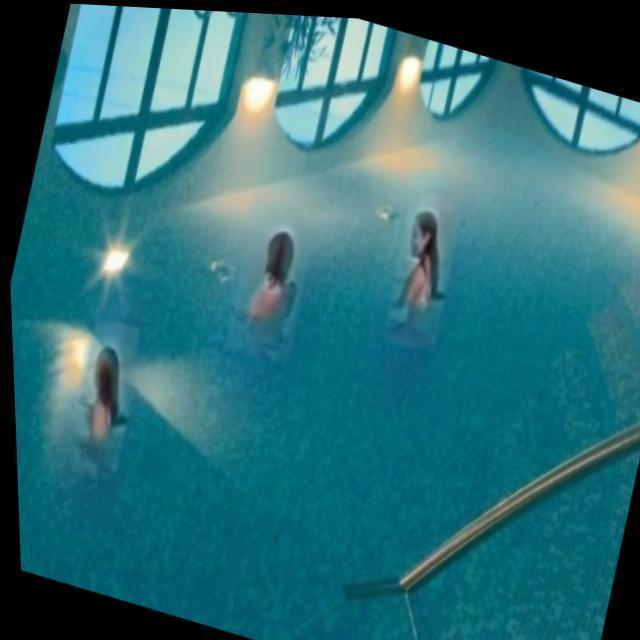swimming: (221, 207, 309, 370), (375, 207, 459, 338), (71, 334, 129, 476)
